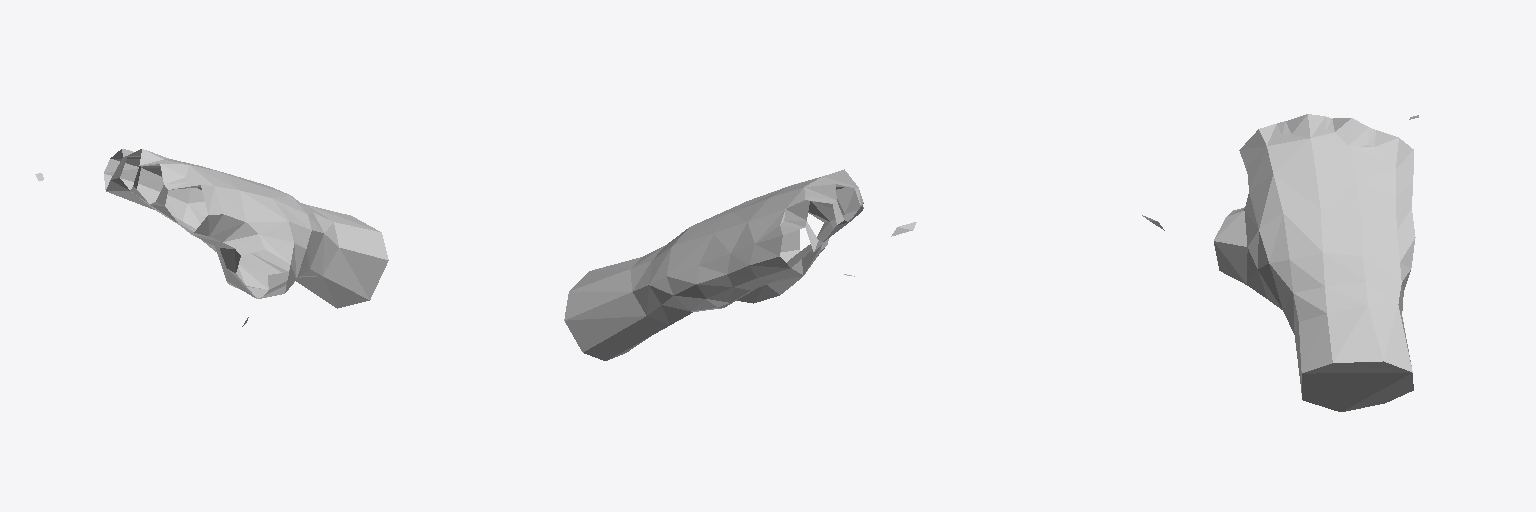
The model's file is hand_base.obj.
The picture shows the model from 3 angles: view 1: azimuth 30°, elevation 25°; view 2: azimuth 150°, elevation 25°; view 3: azimuth 270°, elevation 25°; orthographic projection.
Parts seen in each view (by area): view 1: Hrand; view 2: Hrand; view 3: Hrand.
Boxes of the visible parts, x1,y1,x2,y2 form: Hrand: [35, 149, 388, 326]; Hrand: [564, 169, 916, 360]; Hrand: [1142, 114, 1418, 411].
Bounding box in the file's own units: 0.7871 × 0.5045 × 0.625.